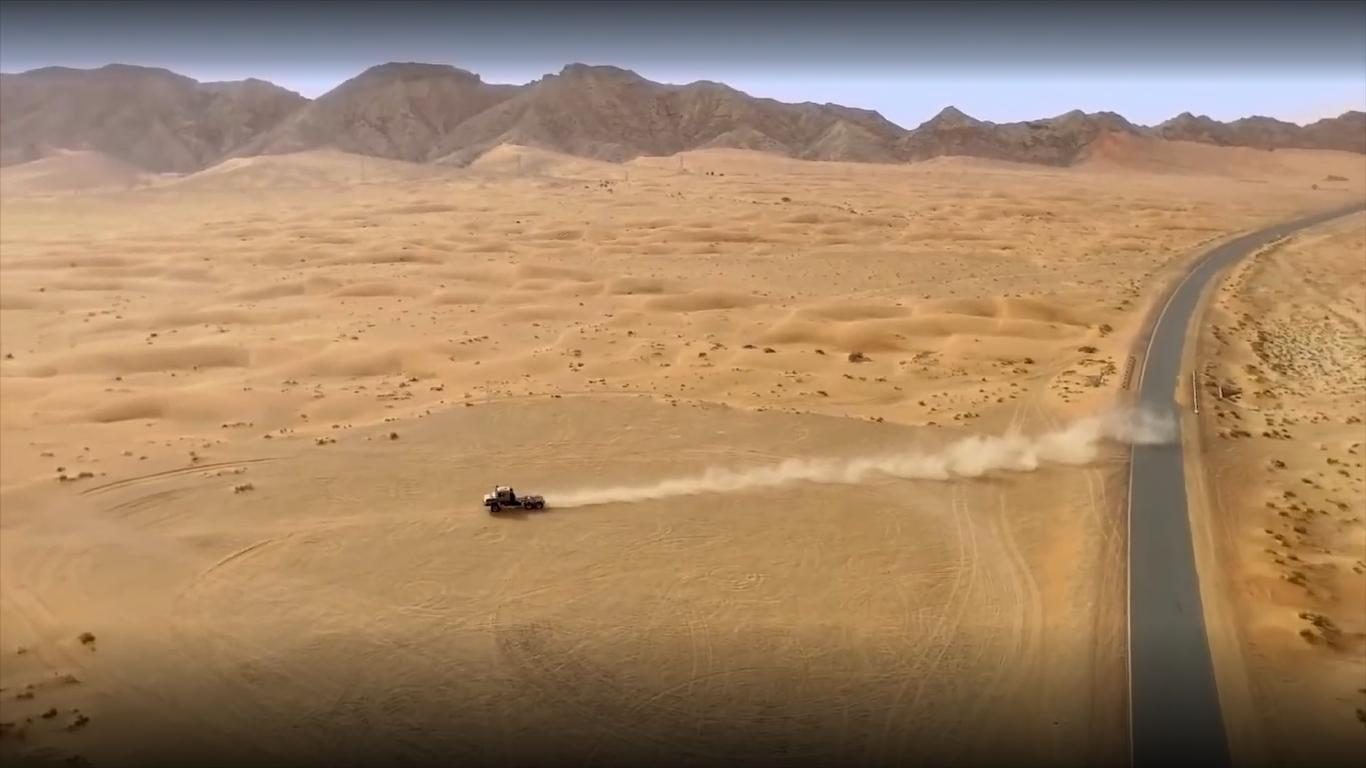truck: (472, 477, 550, 521)
